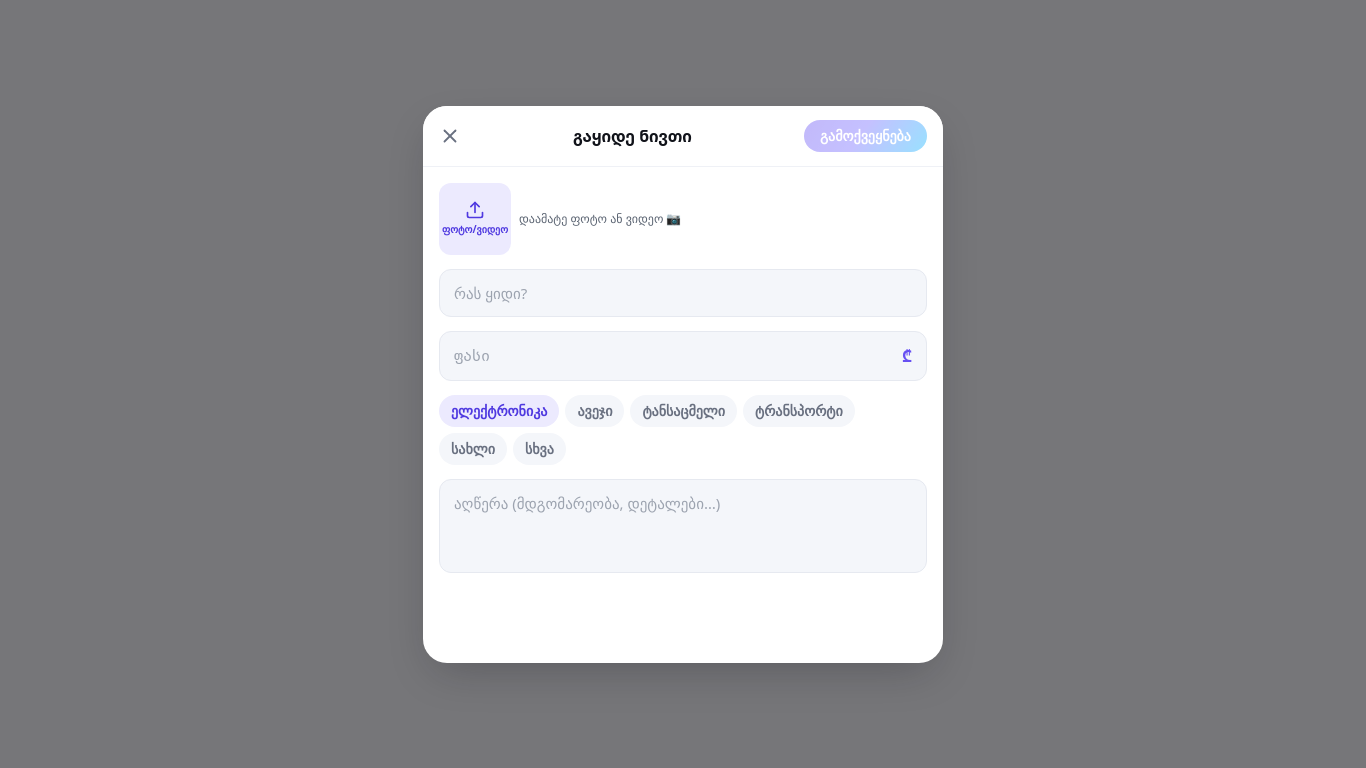
it: NewListing › disables submit until both title and price are present
Expected: the button "გამოქვეყნება" is disabled, [804,120,927,152]
In the field with placeholder "რას ყიდი?": point(683, 293) [439,268,927,317], type "მაგიდა"
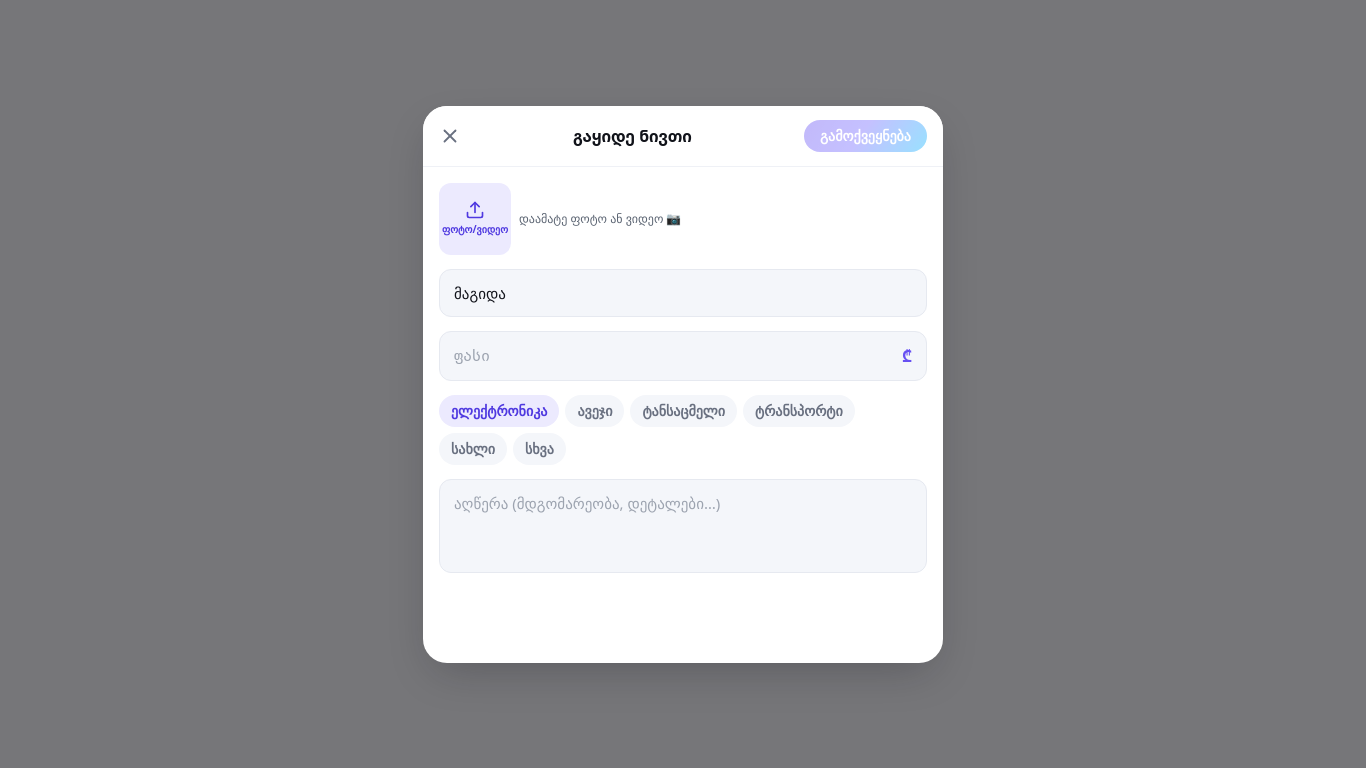
Expected: the button "გამოქვეყნება" is disabled, [804,120,927,152]
In the field with placeholder "ფასი": point(674, 356) [454,345,894,367], type "150"
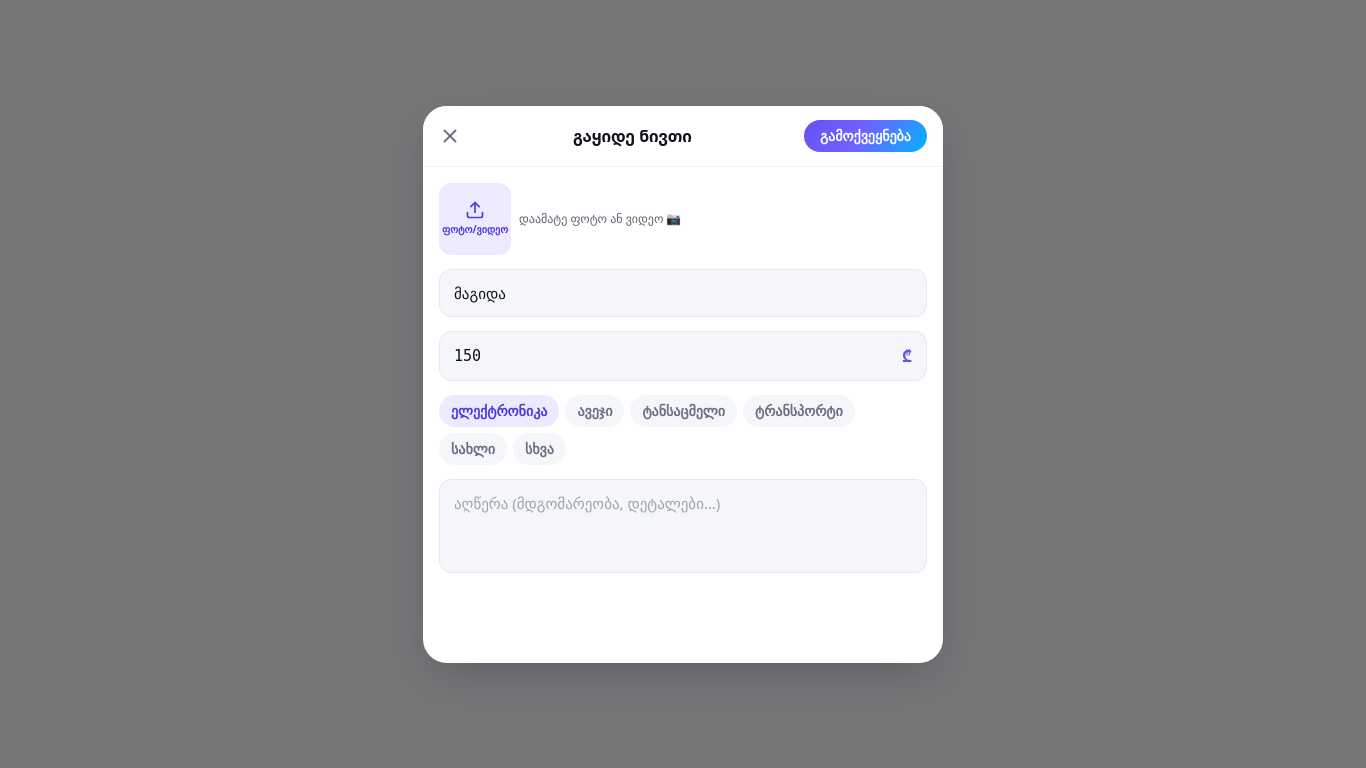
Now the button "გამოქვეყნება" is enabled, box [804,120,927,152]
